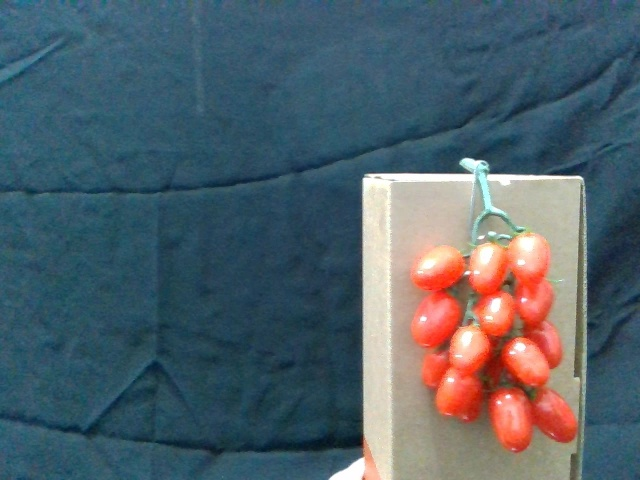tomato: (488, 388, 536, 458), (529, 386, 580, 444), (411, 293, 463, 347), (500, 337, 552, 388), (414, 246, 467, 295), (450, 325, 496, 377), (511, 230, 553, 286), (436, 367, 478, 421), (470, 241, 511, 293), (477, 291, 518, 343), (525, 318, 566, 367), (517, 282, 555, 330)
